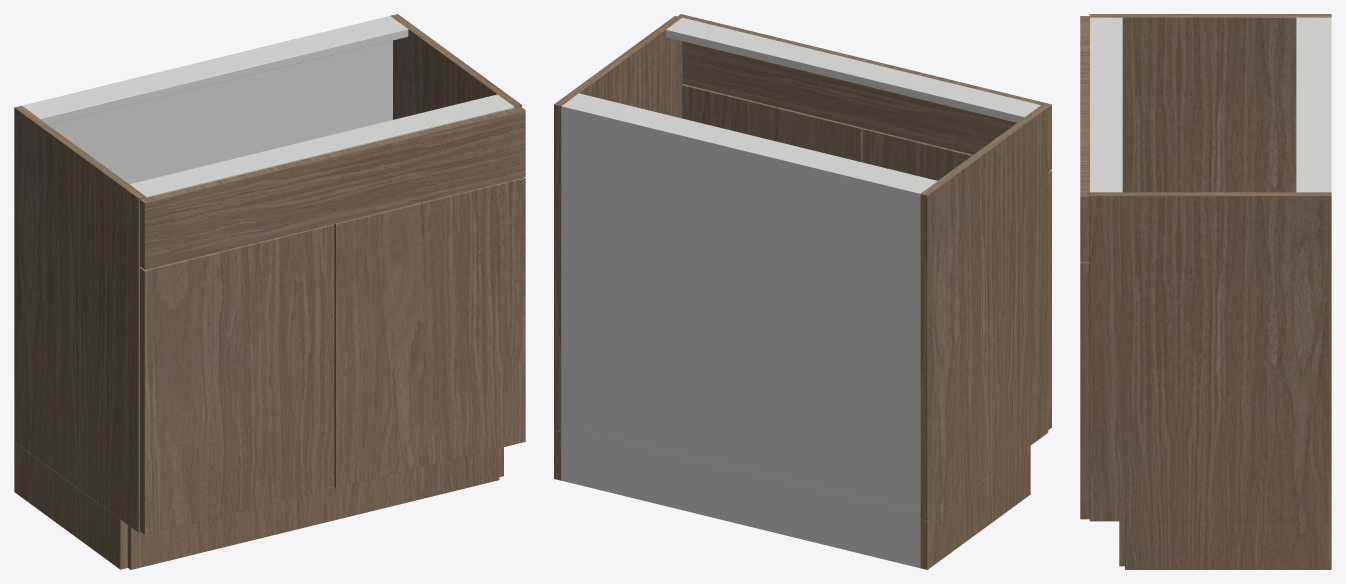
The model's file is bvc-1832.glb.
3 renders of one model, left to right at view 1: azimuth 30°, elevation 25°; view 2: azimuth 150°, elevation 25°; view 3: azimuth 270°, elevation 25°, orthographic. The views are drawn at different scales.
Visible parts, largest first — view 1: Door, Door.001, Cabinet side, False drawer front, Cabinet back, Recessed toe board, Top support rail, Top support rail.001, Cabinet side.001, Recessed side plinth; view 2: Cabinet back, Cabinet side, False drawer front, Top support rail.001, Cabinet side.001, Door.001, Top support rail, Recessed side plinth, Door, Cabinet bottom; view 3: Cabinet side.001, Cabinet side, Recessed side plinth.001, Top support rail.001, Top support rail, Door.001, False drawer front, Cabinet back.
Part boxes in pixels (x1,y1,x2,y2): Door: (140,224,334,534); Door.001: (333,177,525,487); Cabinet side: (14,105,145,532); False drawer front: (140,106,525,269); Cabinet back: (22,16,392,184); Recessed toe board: (128,448,499,569); Top support rail: (25,17,408,124); Top support rail.001: (129,94,514,197); Cabinet side.001: (390,14,521,119); Recessed side plinth: (14,442,127,569); Cabinet back: (561,105,922,567); Cabinet side: (920,105,1048,520); False drawer front: (678,14,1051,171); Top support rail.001: (666,17,1040,122); Cabinet side.001: (554,16,682,431); Door.001: (682,84,863,162); Top support rail: (563,93,937,191); Recessed side plinth: (920,446,1030,569); Door: (862,128,1051,429); Cabinet bottom: (562,426,919,518); Cabinet side.001: (1089,192,1331,521); Cabinet side: (1089,14,1331,192); Recessed side plinth.001: (1125,521,1331,569); Top support rail.001: (1089,17,1122,192); Top support rail: (1296,17,1328,192); Door.001: (1080,261,1089,519); False drawer front: (1080,16,1089,261); Cabinet back: (1326,17,1331,192).
Size of the model in its own units: 0.9144 by 0.8763 by 0.5334.
Materials: 2 (1 with a texture image).
